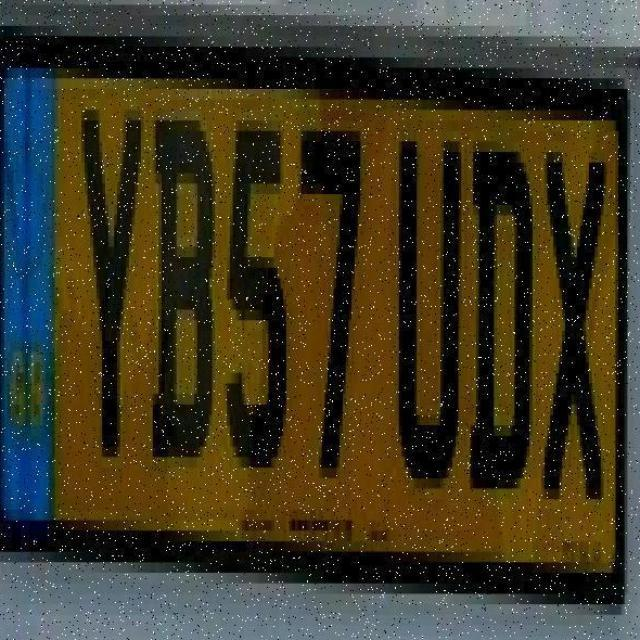license-plate: (9, 9, 628, 631)
